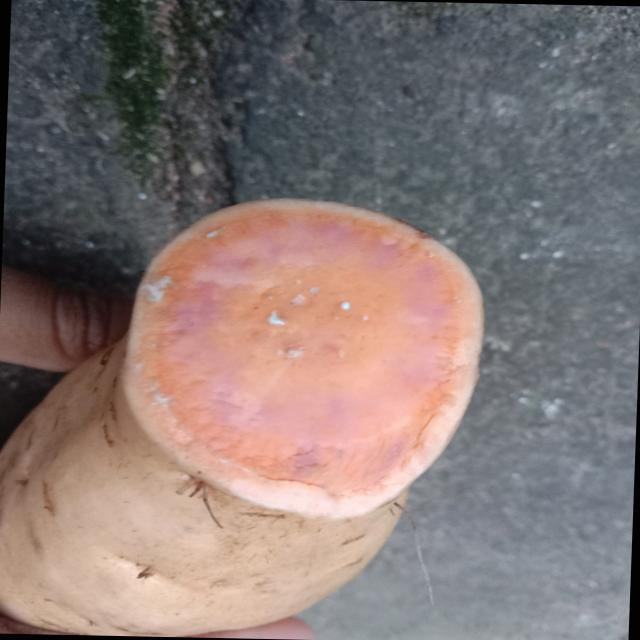Healthy Sweet Potato: (123, 199, 483, 518)
